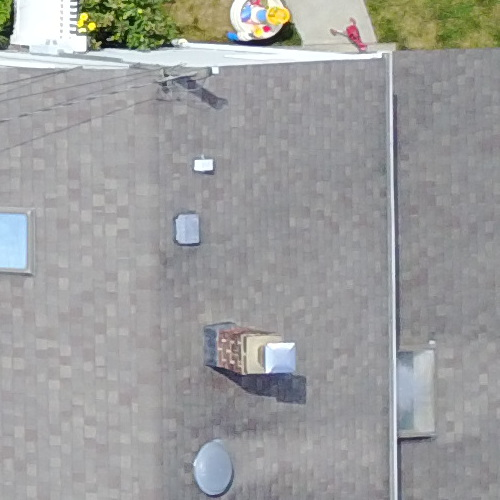toy: (216, 1, 298, 44), (325, 9, 385, 55)
